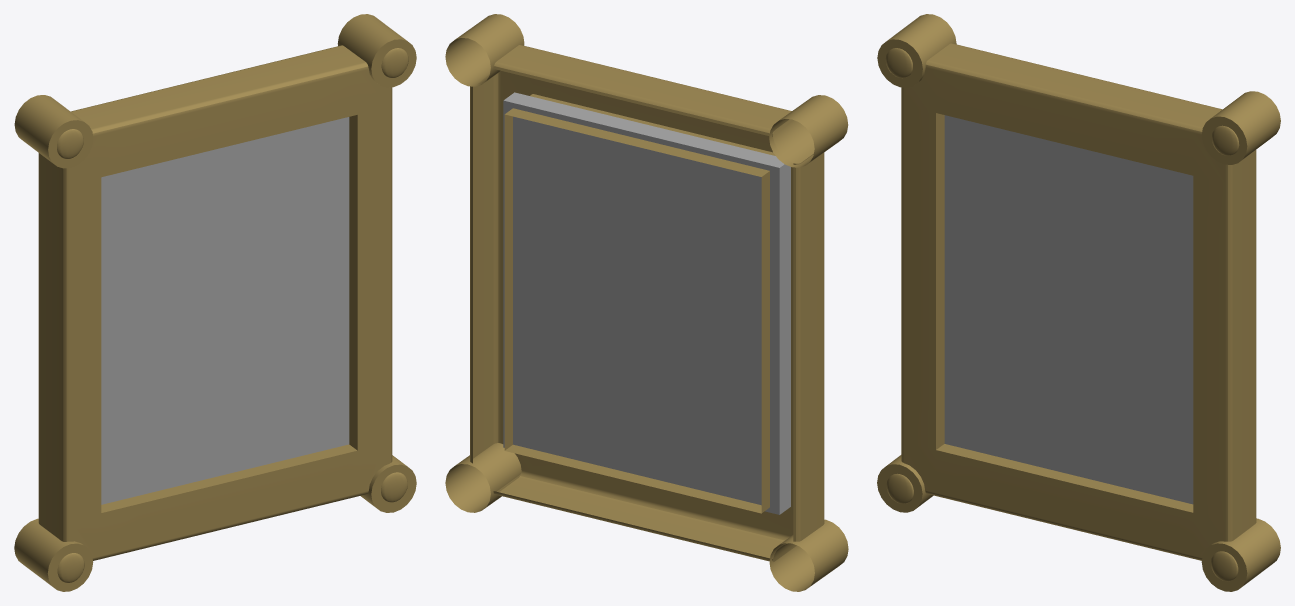
The model's file is Principal_Selfportrait.fbx.
3 views of the same model, side by side, from view 1: azimuth 30°, elevation 25°; view 2: azimuth 150°, elevation 25°; view 3: azimuth 330°, elevation 25° (orthographic).
Parts seen in each view (by area): view 1: pCube2, pCube1, pCylinder2, pCylinder4, pCylinder1, pCylinder3, pSphere4, pSphere3, pSphere2, pSphere1; view 2: pCube2, pCube1, pCylinder1, pCylinder4, pCylinder3, pCylinder2; view 3: pCube2, pCube1, pCylinder1, pCylinder3, pCylinder2, pCylinder4, pSphere3, pSphere1, pSphere4, pSphere2.
Part boxes in pixels (x1,y1,x2,y2): pCube2: (101, 117, 349, 504); pCube1: (38, 45, 392, 560); pCylinder2: (14, 95, 93, 168); pCylinder4: (14, 518, 93, 591); pCylinder1: (337, 14, 416, 87); pCylinder3: (360, 455, 416, 512); pSphere4: (57, 553, 84, 582); pSphere3: (381, 472, 407, 502); pSphere2: (381, 48, 408, 77); pSphere1: (57, 129, 83, 158); pCube2: (503, 92, 790, 514); pCube1: (470, 45, 824, 561); pCylinder1: (445, 14, 524, 86); pCylinder4: (769, 519, 848, 591); pCylinder3: (445, 443, 521, 512); pCylinder2: (769, 95, 848, 167); pCube2: (944, 115, 1193, 504); pCube1: (901, 43, 1256, 560); pCylinder1: (1201, 91, 1280, 164); pCylinder3: (1201, 518, 1280, 591); pCylinder2: (877, 14, 956, 87); pCylinder4: (877, 455, 933, 512); pSphere3: (1211, 551, 1238, 581); pSphere1: (885, 48, 912, 78); pSphere4: (886, 473, 913, 503); pSphere2: (1212, 125, 1239, 155).
Bounding box in the file's own units: 0.4542 × 0.5572 × 0.0756.
